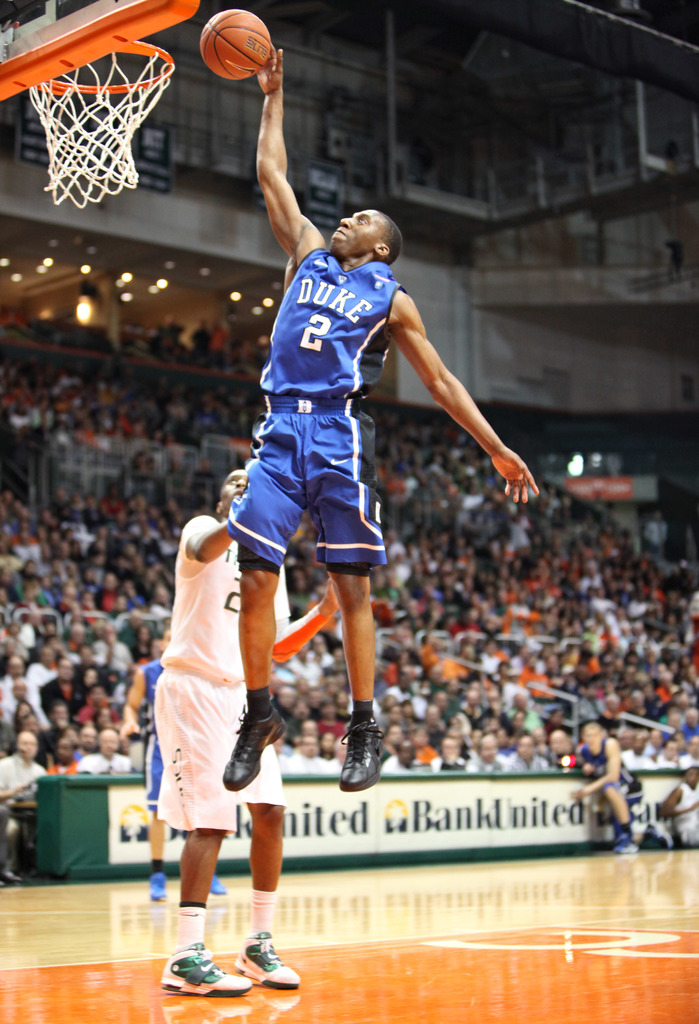Ball: (201, 8, 273, 78)
